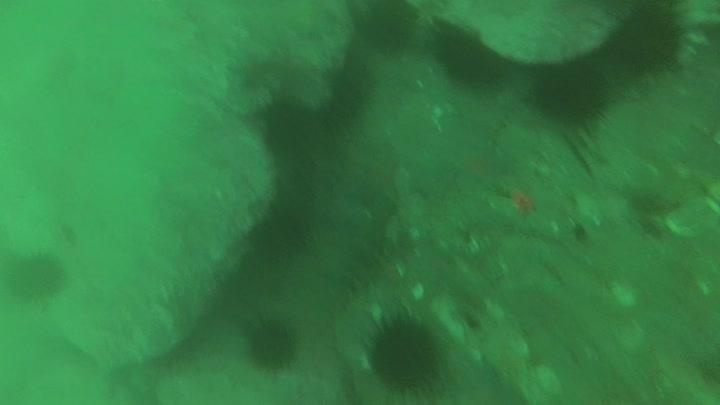echinus: (363, 312, 447, 398), (607, 4, 688, 77), (530, 61, 611, 128), (431, 22, 507, 89), (256, 94, 321, 160), (248, 203, 312, 263), (4, 249, 68, 305), (242, 315, 300, 373), (357, 2, 419, 54)
starfish: (493, 177, 560, 227), (448, 141, 512, 190)
